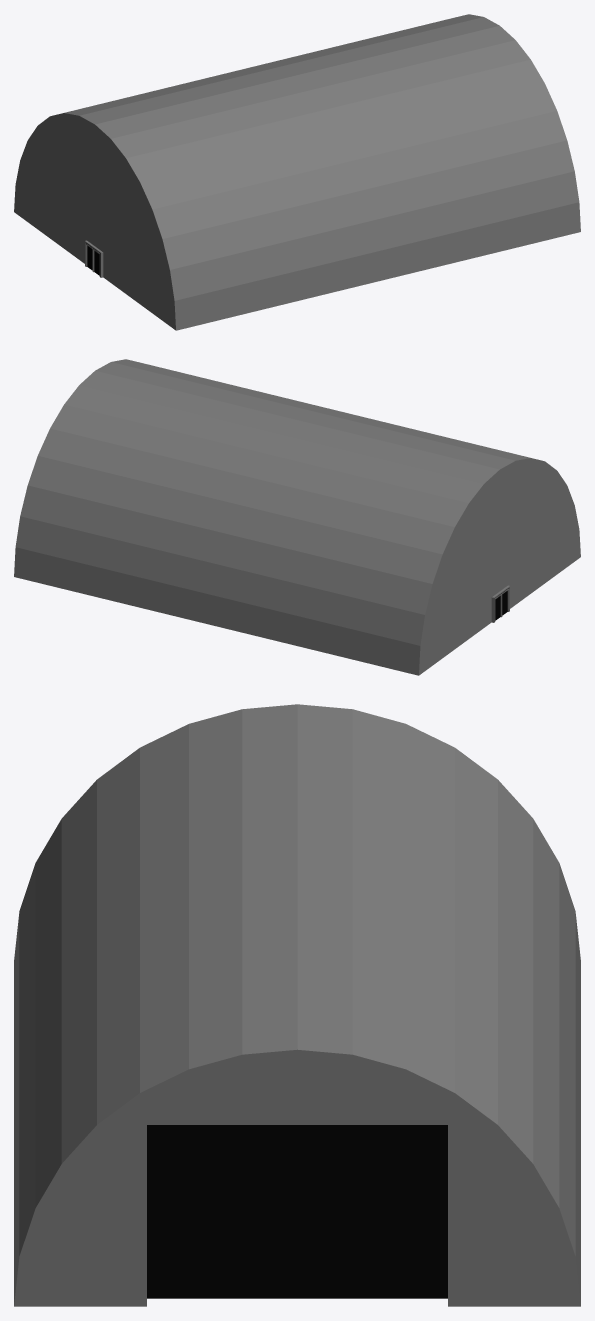
Rendered from Warehouse0.fbx.
The picture shows the model from 3 angles, top to bottom: view 1: azimuth 30°, elevation 25°; view 2: azimuth 150°, elevation 25°; view 3: azimuth 270°, elevation 25°; orthographic projection. The views are drawn at different scales.
Parts seen in each view (by area): view 1: Warehouse; view 2: Warehouse; view 3: Warehouse.
Boxes of the visible parts, x1,y1,x2,y2 form: Warehouse: [14, 14, 580, 330]; Warehouse: [14, 359, 580, 675]; Warehouse: [14, 704, 580, 1306].
Size of the model in its own units: 21619 by 7461 by 14917.
